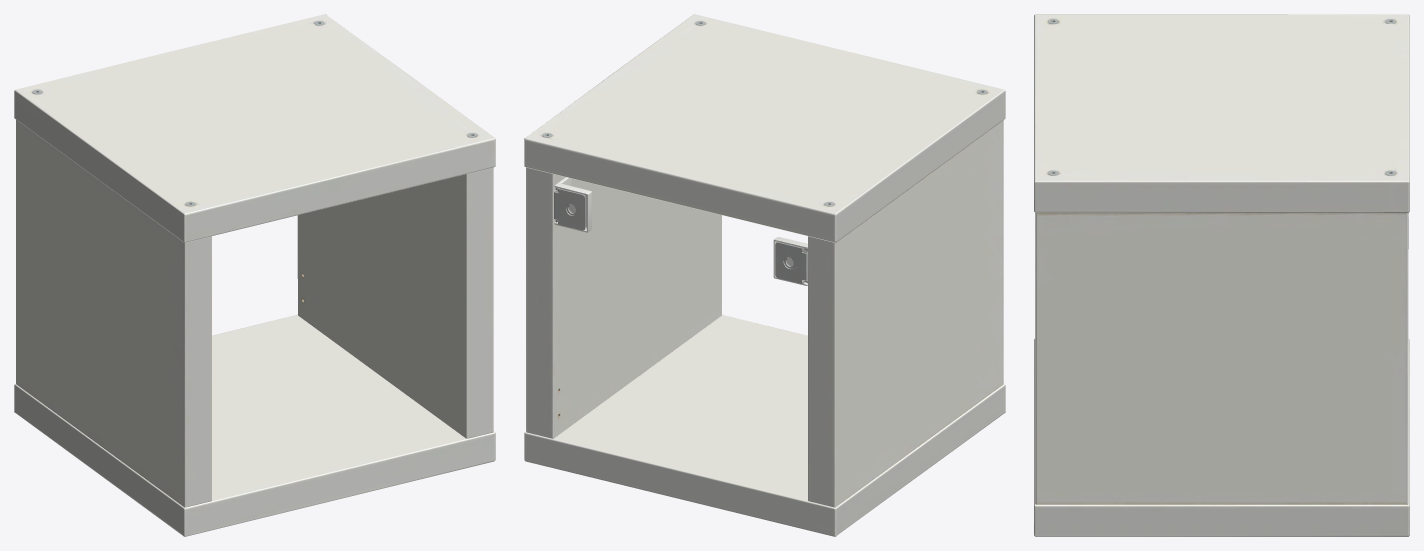
The model's file is Kallax20301554-scene-512.glb.
3 renders of one model, left to right at view 1: azimuth 30°, elevation 25°; view 2: azimuth 150°, elevation 25°; view 3: azimuth 270°, elevation 25°, orthographic. The views are drawn at different scales.
Parts seen in each view (by area): view 1: model; view 2: model; view 3: model.
Boxes of the visible parts, bbox=[...] form: model: bbox=[14, 14, 495, 536]; model: bbox=[524, 14, 1005, 536]; model: bbox=[1034, 14, 1409, 536].
Bounding box in the file's own units: 0.4141 × 0.4107 × 0.3921.
1 material, 1 textured.
